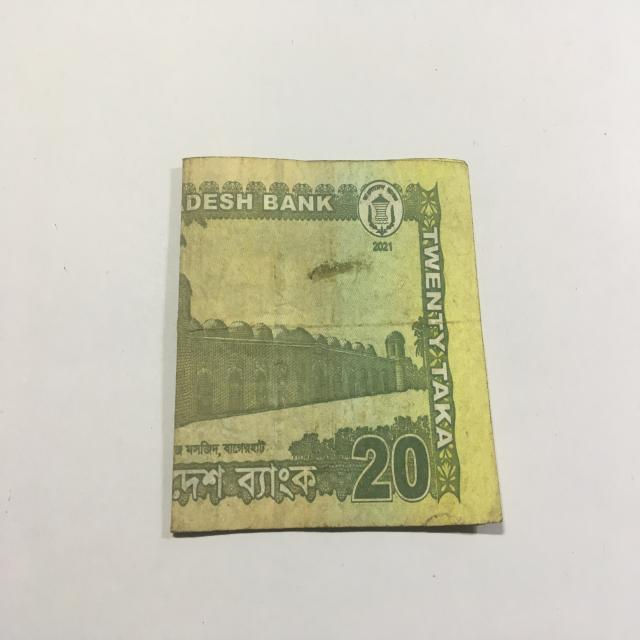Taka: (174, 153, 506, 545)
